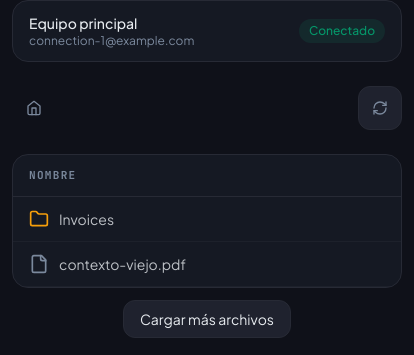
Scenario: DriveBrowser read-only › limpia los archivos y el token antes de navegar a otra carpeta
Expected: the text "contexto-viejo.pdf" is shown, [59,254,186,274]
Expected: the button "Cargar más archivos" is shown, [123,300,291,338]
Click the button "Invoices" at (72, 218), box [29,208,114,228]
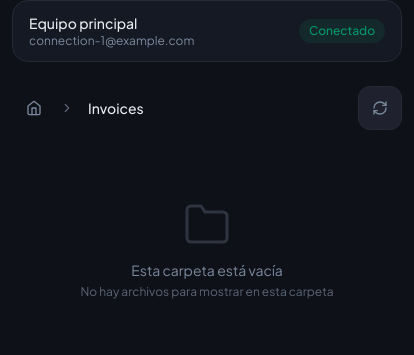
Result: the text "contexto-viejo.pdf" is gone
Result: the button "Cargar más archivos" is gone
